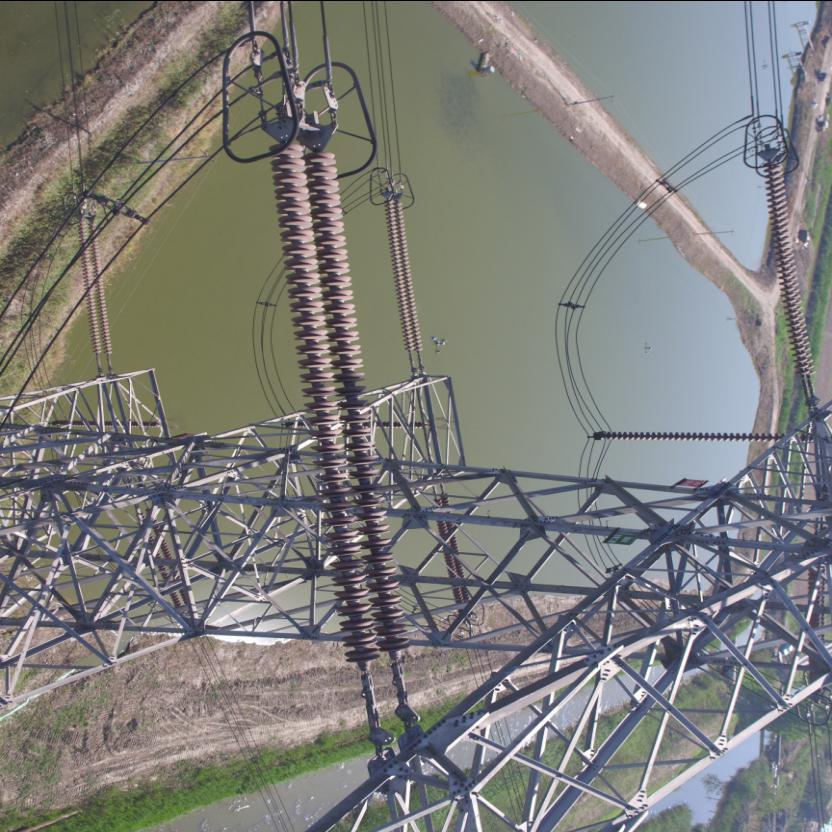insulator: (271, 131, 415, 694), (764, 162, 818, 378), (384, 195, 426, 362), (76, 214, 116, 362)
